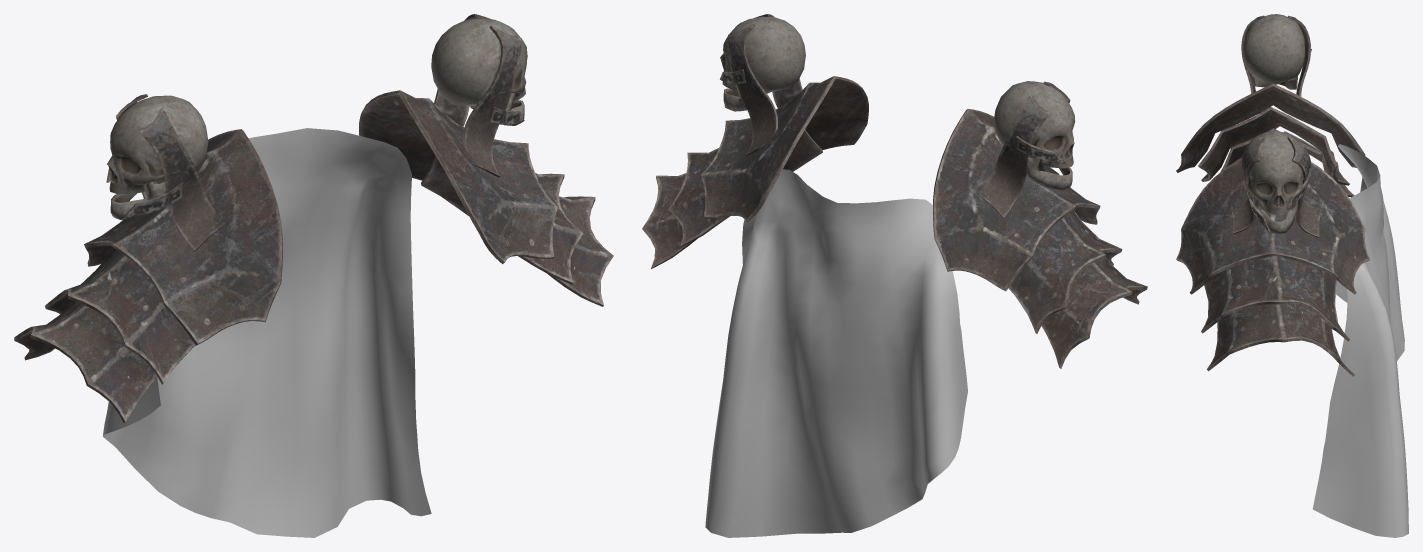
File: sk_dg_uruk_pauldron_elite_cape_f.fbx
The picture shows the model from 3 angles, left to right: view 1: azimuth 30°, elevation 25°; view 2: azimuth 150°, elevation 25°; view 3: azimuth 270°, elevation 25°; orthographic projection. The views are drawn at different scales.
Visible parts, largest first — view 1: sk_dg_uruk_pauldron_elite_cape_f.cape, sk_dg_uruk_pauldron_elite_cape_f; view 2: sk_dg_uruk_pauldron_elite_cape_f.cape, sk_dg_uruk_pauldron_elite_cape_f; view 3: sk_dg_uruk_pauldron_elite_cape_f, sk_dg_uruk_pauldron_elite_cape_f.cape.
Part boxes in pixels (left/top/right/bottom): sk_dg_uruk_pauldron_elite_cape_f.cape: left=102, top=128, right=431, bottom=537; sk_dg_uruk_pauldron_elite_cape_f: left=14, top=14, right=613, bottom=423; sk_dg_uruk_pauldron_elite_cape_f.cape: left=705, top=169, right=967, bottom=537; sk_dg_uruk_pauldron_elite_cape_f: left=642, top=14, right=1147, bottom=368; sk_dg_uruk_pauldron_elite_cape_f: left=1176, top=14, right=1370, bottom=376; sk_dg_uruk_pauldron_elite_cape_f.cape: left=1312, top=144, right=1408, bottom=537.
Bounding box in the file's own units: 0.8761 × 0.4133 × 0.8047.
